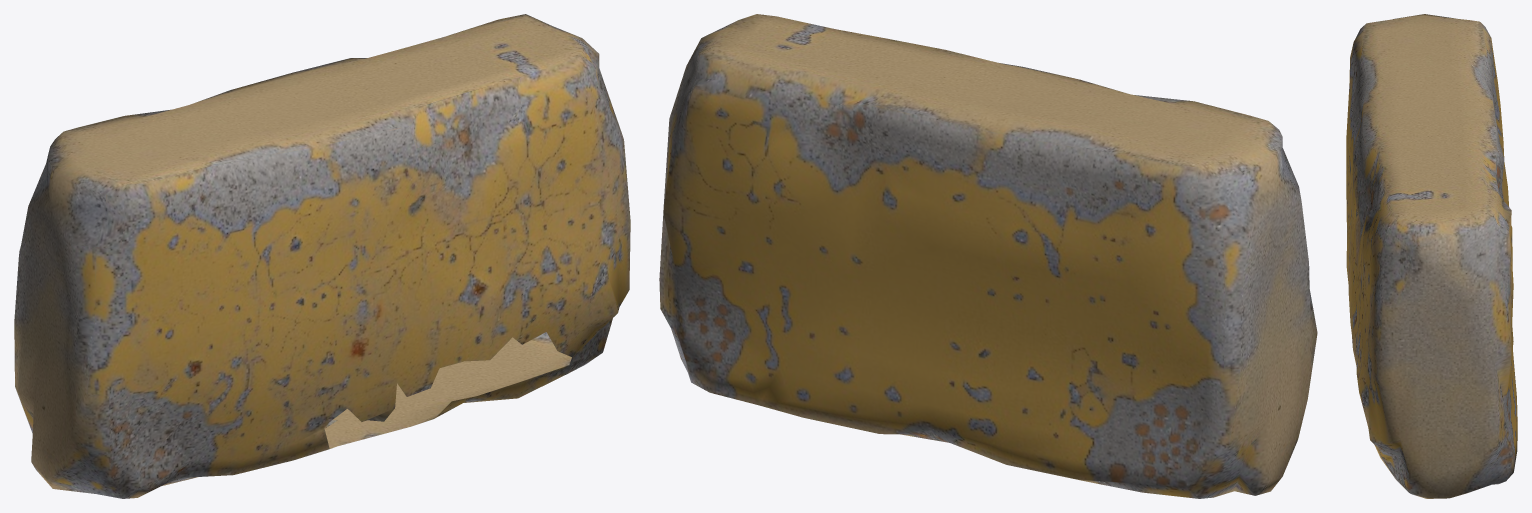
Rendered from RoadCurbYellow.fbx.
3 renders of one model, left to right at view 1: azimuth 30°, elevation 25°; view 2: azimuth 150°, elevation 25°; view 3: azimuth 270°, elevation 25°, orthographic. The views are drawn at different scales.
Visible parts, largest first — view 1: tripo_node_23221952; view 2: tripo_node_23221952; view 3: tripo_node_23221952.
Boxes of the visible parts, x1,y1,x2,y2 form: tripo_node_23221952: (14, 14, 630, 498); tripo_node_23221952: (659, 14, 1317, 498); tripo_node_23221952: (1346, 14, 1517, 498).
Bounding box in the file's own units: 97.8 × 54.59 × 30.33.
1 material, 1 textured.
